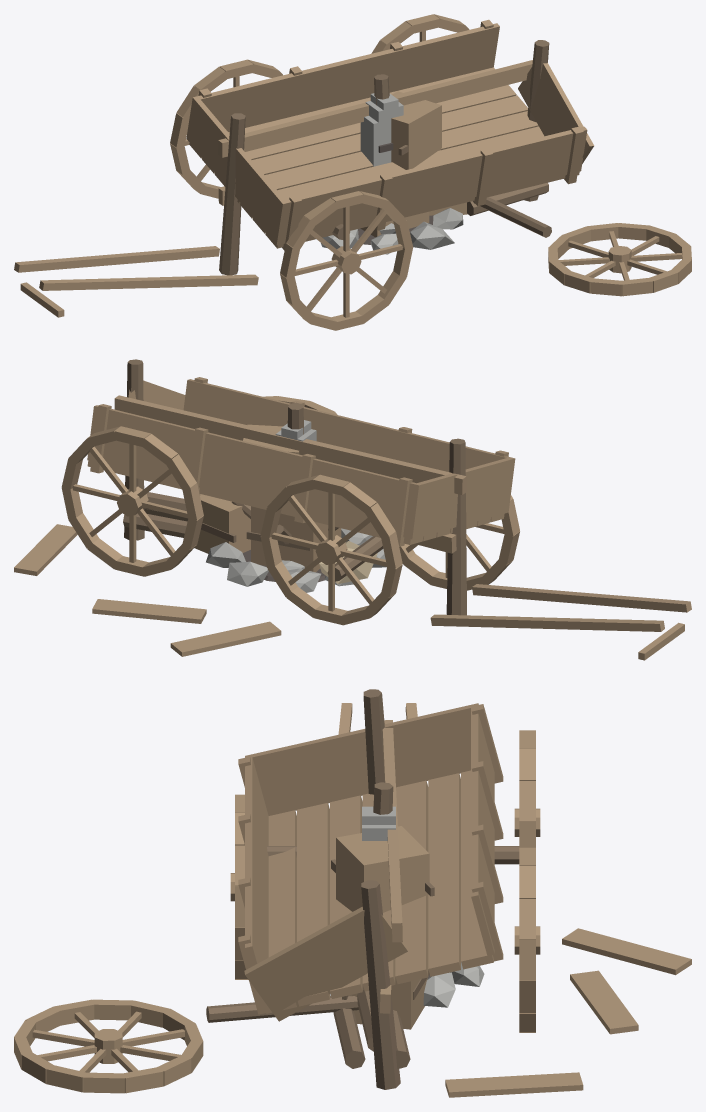
Rendered from props.glb.
The picture shows the model from 3 angles, top to bottom: view 1: azimuth 30°, elevation 25°; view 2: azimuth 150°, elevation 25°; view 3: azimuth 270°, elevation 25°; orthographic projection. The views are drawn at different scales.
Visible parts, largest first — view 1: carroca, cerca, caixotes, fogueira, marco; view 2: carroca, cerca, caixotes, fogueira, marco; view 3: carroca, cerca, caixotes, fogueira, marco.
Part boxes in pixels (left/top/right/bottom): carroca: left=14, top=14, right=691, bottom=330; cerca: left=218, top=40, right=549, bottom=275; caixotes: left=360, top=91, right=467, bottom=237; fogueira: left=321, top=182, right=548, bottom=254; marco: left=360, top=93, right=403, bottom=233; carroca: left=14, top=377, right=691, bottom=660; cerca: left=114, top=359, right=466, bottom=615; caixotes: left=194, top=424, right=377, bottom=583; fogueira: left=123, top=492, right=386, bottom=592; marco: left=275, top=420, right=316, bottom=570; carroca: left=14, top=703, right=691, bottom=1097; cerca: left=361, top=689, right=402, bottom=1089; caixotes: left=331, top=826, right=434, bottom=1029; fogueira: left=330, top=962, right=484, bottom=1068; marco: left=362, top=806, right=395, bottom=840.
Bounding box in the file's own units: 10.99 × 3.55 × 9.02.
